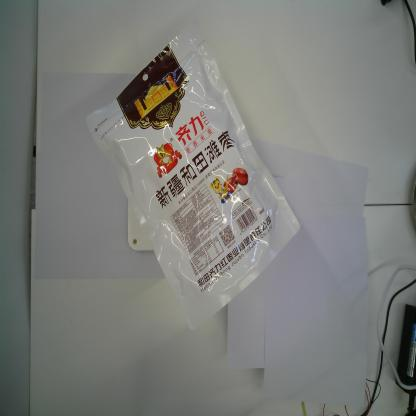Dried Food: (83, 20, 305, 339)
